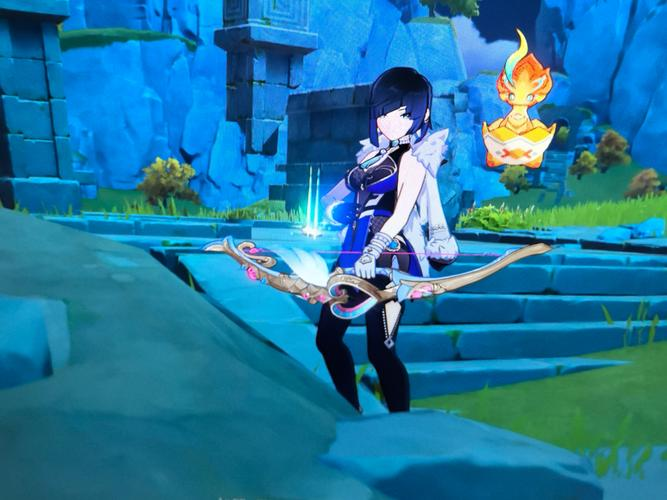夜兰: (313, 66, 459, 415)
